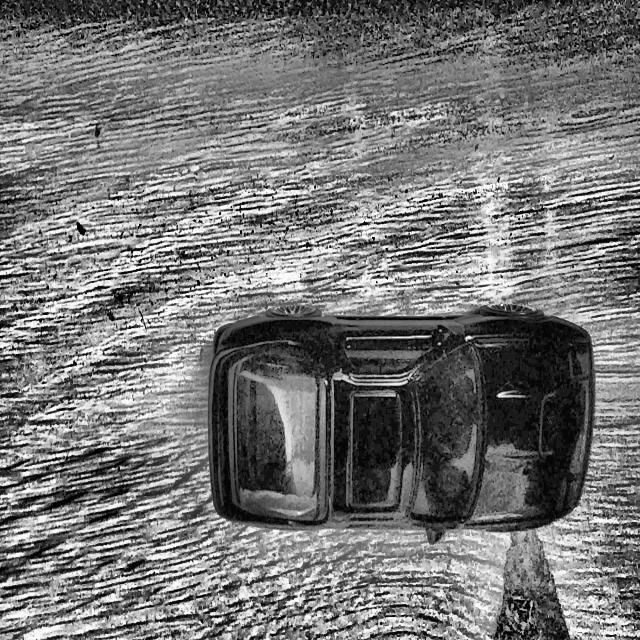car: (207, 301, 594, 543)
